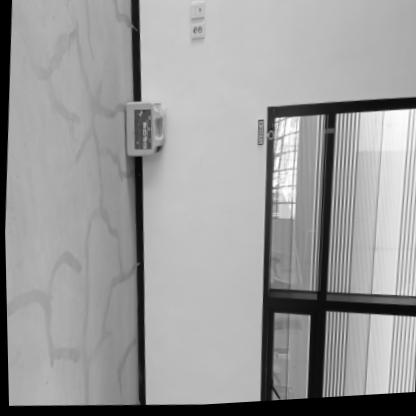DDL: (120, 101, 165, 160)
